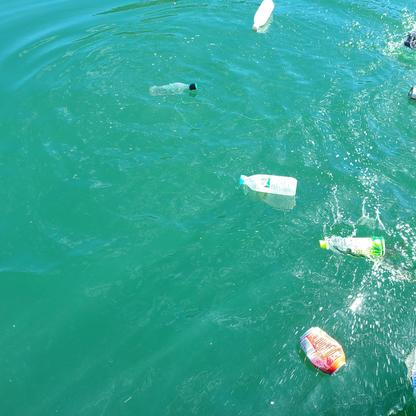can: (298, 326, 348, 375)
plastic bottle: (319, 234, 387, 258), (240, 172, 297, 195), (251, 1, 274, 31), (148, 83, 196, 95)
